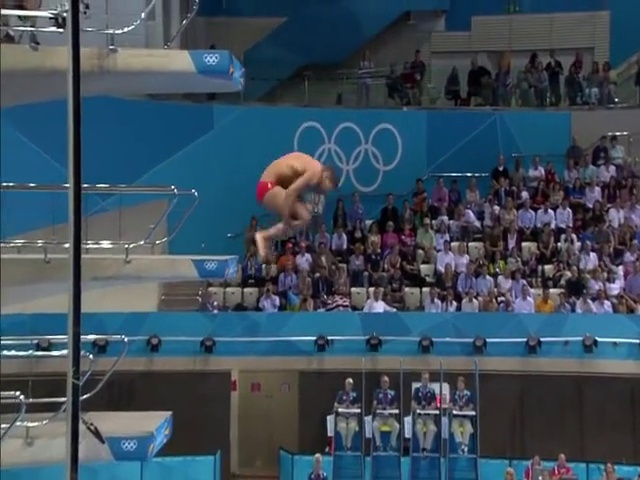diver: (253, 152, 337, 261)
